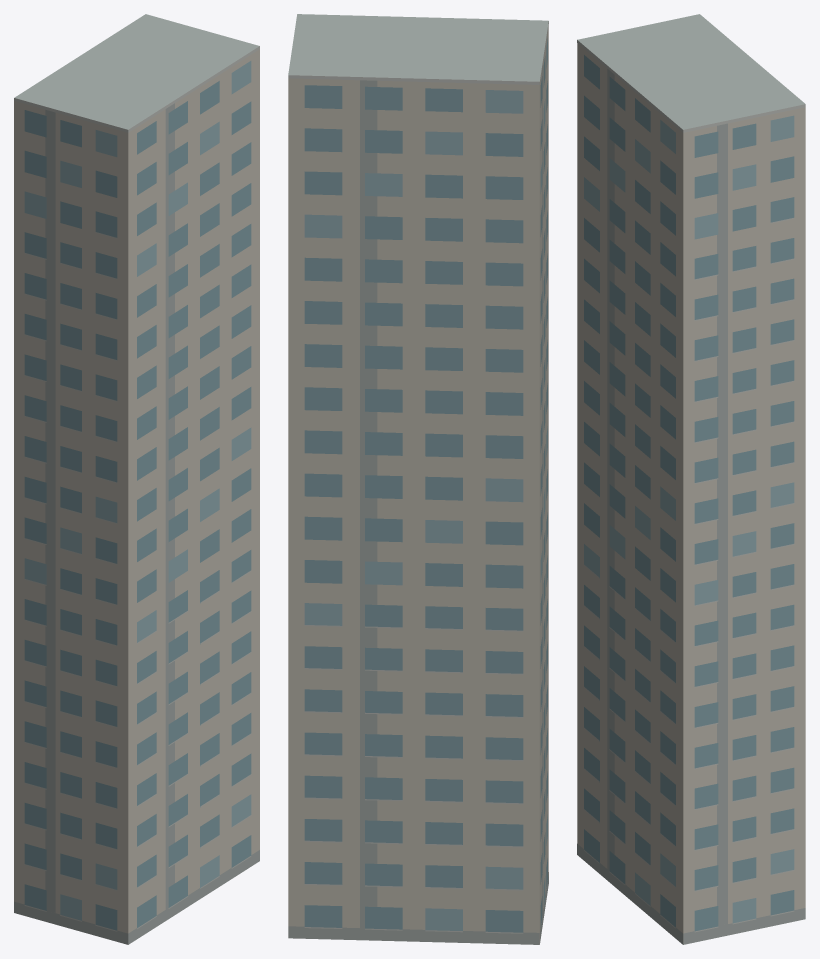
The model's file is residential-2fc73a50-5272-4c27-8dc7-c10a373b9069.glb.
The picture shows the model from 3 angles, left to right: view 1: azimuth 30°, elevation 25°; view 2: azimuth 150°, elevation 25°; view 3: azimuth 270°, elevation 25°; orthographic projection. The views are drawn at different scales.
Parts seen in each view (by area): view 1: residential-2fc73a50-5272-4c27-8dc7-c10a373b9069.tmp; view 2: residential-2fc73a50-5272-4c27-8dc7-c10a373b9069.tmp; view 3: residential-2fc73a50-5272-4c27-8dc7-c10a373b9069.tmp.
Boxes of the visible parts, box(x1,y1,x2,y2) form: residential-2fc73a50-5272-4c27-8dc7-c10a373b9069.tmp: box(14, 14, 259, 944); residential-2fc73a50-5272-4c27-8dc7-c10a373b9069.tmp: box(288, 14, 548, 944); residential-2fc73a50-5272-4c27-8dc7-c10a373b9069.tmp: box(577, 14, 805, 944).
Size of the model in its own units: 19.82 by 65 by 16.53.
